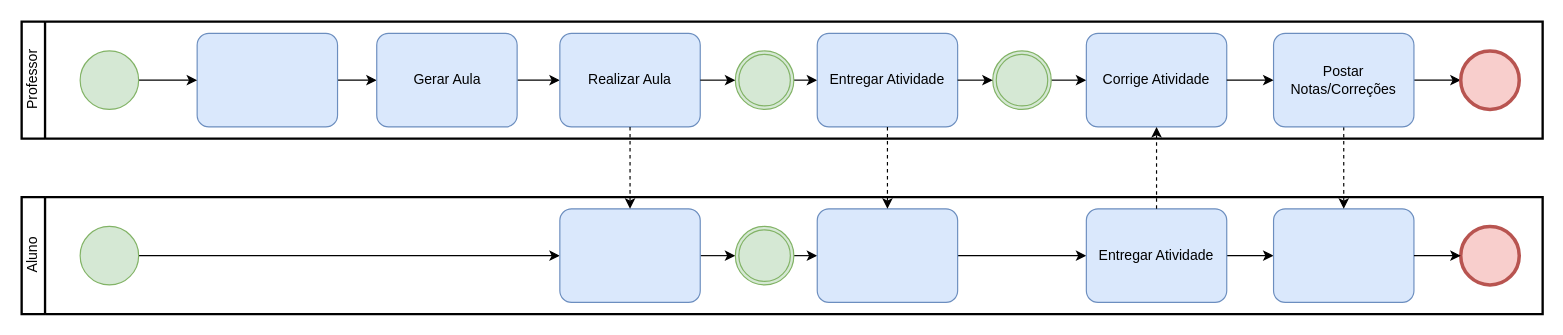
The diagram is 1563 pixels wide and 335 high, and some of its shapes have lost their labels. The shapes that lost their labels are listed below. From the top down, each one's centre as x and y in pixels, then its label:
At (x=267, y=79): "Planejar Aula".
At (x=629, y=255): "Participa da Aula".
At (x=887, y=255): "Realizar Atividade".
At (x=1343, y=255): "Verificar Nota".
